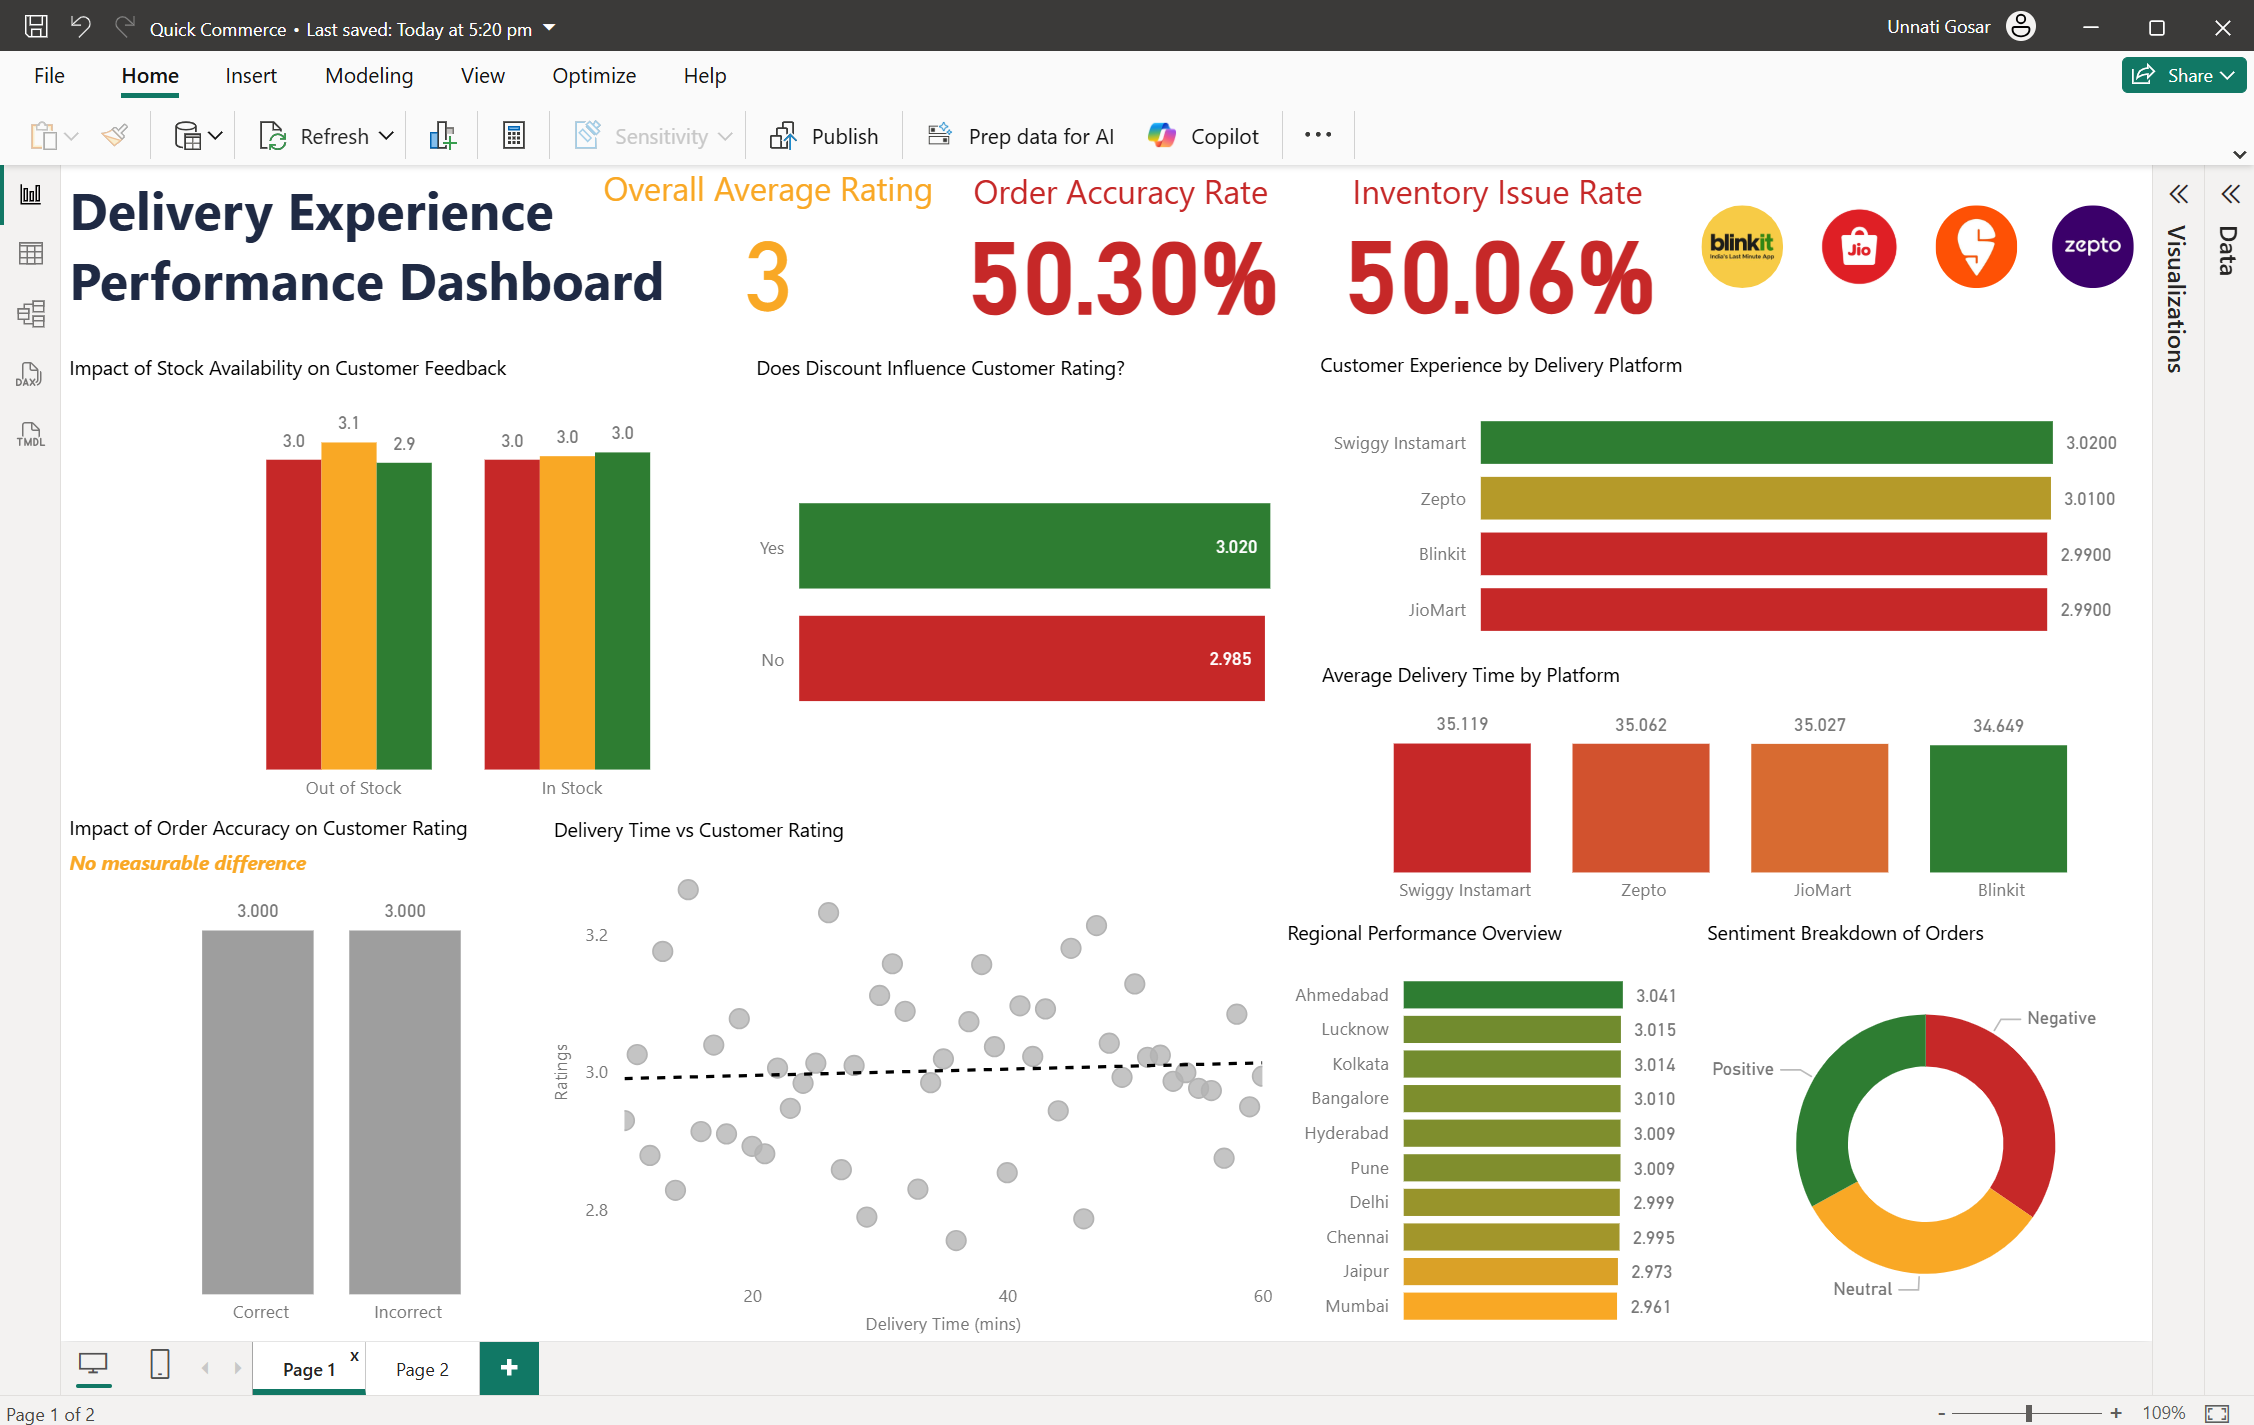

This screenshot's page, from the dashboard's own definition file:
{"tool":"powerbi","page":{"name":"Page 1","canvas":[1280,720],"ordinal":0},"visuals":[{"type":"advanceCardE03760C5AB684758B56AA29F9E6C257B","title":"Overall Average Rating","fields":{"mainMeasure":["quick_commerce agent_performance_summary.Avg Rating"]},"box":[323.1,1,219.5,114.9],"z":0},{"type":"advanceCardE03760C5AB684758B56AA29F9E6C257B","title":"Order Accuracy Rate","fields":{"mainMeasure":["quick_commerce agent_performance_summary.Order Accuracy Rate %"]},"box":[521.5,2.3,254.4,113.8],"z":1000},{"type":"advanceCardE03760C5AB684758B56AA29F9E6C257B","title":"Inventory Issue Rate","fields":{"mainMeasure":["quick_commerce agent_performance_summary.INVENTORY Issue Rate %"]},"box":[756.2,2.3,247.4,111.5],"z":2000},{"type":"columnChart","title":"Impact of Order Accuracy on Customer Rating","fields":{"Y":["quick_commerce agent_performance_summary.Avg Rating"],"Category":["quick_commerce agent_review.order_accuracy"]},"box":[0,398,334.2,321.7],"z":3000},{"type":"scatterChart","title":"Delivery Time vs Customer Rating","fields":{"X":["quick_commerce agent_review.delivery_time"],"Y":["Avg(quick_commerce agent_review.rating)"]},"box":[296.2,398.4,449.5,321.7],"z":4000},{"type":"clusteredBarChart","title":"Customer Experience by Delivery Platform","fields":{"Category":["quick_commerce agent_performance_summary.agent_name"],"Y":["Avg(quick_commerce agent_performance_summary.avg_rating)"]},"box":[766.2,113.8,513.8,190.8],"z":5000},{"type":"clusteredColumnChart","title":"Average Delivery Time by Platform","fields":{"Y":["Avg(quick_commerce agent_review.delivery_time)"],"Category":["quick_commerce agent_review.agent_name"]},"box":[766.6,304.3,513.4,156.8],"z":6000},{"type":"clusteredColumnChart","title":"Impact of Stock Availability on Customer Feedback","fields":{"Category":["quick_commerce agent_review.product_availability"],"Y":["Avg(quick_commerce agent_review.rating)"],"Series":["quick_commerce agent_review.customer_feedback"]},"box":[0,115.9,491.3,282.1],"z":7000},{"type":"barChart","title":"Does Discount Influence Customer Rating?","fields":{"Category":["quick_commerce agent_review.discount_applied"],"Y":["Avg(quick_commerce agent_review.rating)"]},"box":[420.5,115.9,370.3,282.1],"z":8000},{"type":"donutChart","title":"Sentiment Breakdown of Orders","fields":{"Y":["quick_commerce agent_performance_summary.Orders with Negative Feedback","quick_commerce agent_performance_summary.Orders with Neutral Feedback","quick_commerce agent_performance_summary.Orders with Positive Feedback"]},"box":[1003.1,461.5,276.9,258.5],"z":9000},{"type":"barChart","title":"Regional Performance Overview","fields":{"Category":["quick_commerce agent_review.location"],"Y":["Avg(quick_commerce agent_review.rating)"]},"box":[745.6,461.5,257.4,258.5],"z":10000},{"type":"ChicletSlicer1448559807354","fields":{"Category":["Brand.Column1"],"Image":["Brand.Column2"]},"box":[993.8,0,286.2,103.6],"z":11000},{"type":"textbox","box":[0,0,391.4,113.8],"z":12000}]}

Visuals, with their boxes on the page's 1280x720 design canvas (x1, y1, x2, y2). These are canvas units, not pixel positions in the 2254x1425 screenshot, which may show the page scaled, cropped or inside an application window:
"Overall Average Rating" advanceCardE03760C5AB684758B56AA29F9E6C257B: box(323, 1, 543, 116)
"Order Accuracy Rate" advanceCardE03760C5AB684758B56AA29F9E6C257B: box(522, 2, 776, 116)
"Inventory Issue Rate" advanceCardE03760C5AB684758B56AA29F9E6C257B: box(756, 2, 1004, 114)
"Impact of Order Accuracy on Customer Rating" columnChart: box(0, 398, 334, 720)
"Delivery Time vs Customer Rating" scatterChart: box(296, 398, 746, 720)
"Customer Experience by Delivery Platform" clusteredBarChart: box(766, 114, 1280, 305)
"Average Delivery Time by Platform" clusteredColumnChart: box(767, 304, 1280, 461)
"Impact of Stock Availability on Customer Feedback" clusteredColumnChart: box(0, 116, 491, 398)
"Does Discount Influence Customer Rating?" barChart: box(420, 116, 791, 398)
"Sentiment Breakdown of Orders" donutChart: box(1003, 462, 1280, 720)
"Regional Performance Overview" barChart: box(746, 462, 1003, 720)
ChicletSlicer1448559807354 - Brand.Column1 x Brand.Column2: box(994, 0, 1280, 104)
textbox: box(0, 0, 391, 114)
